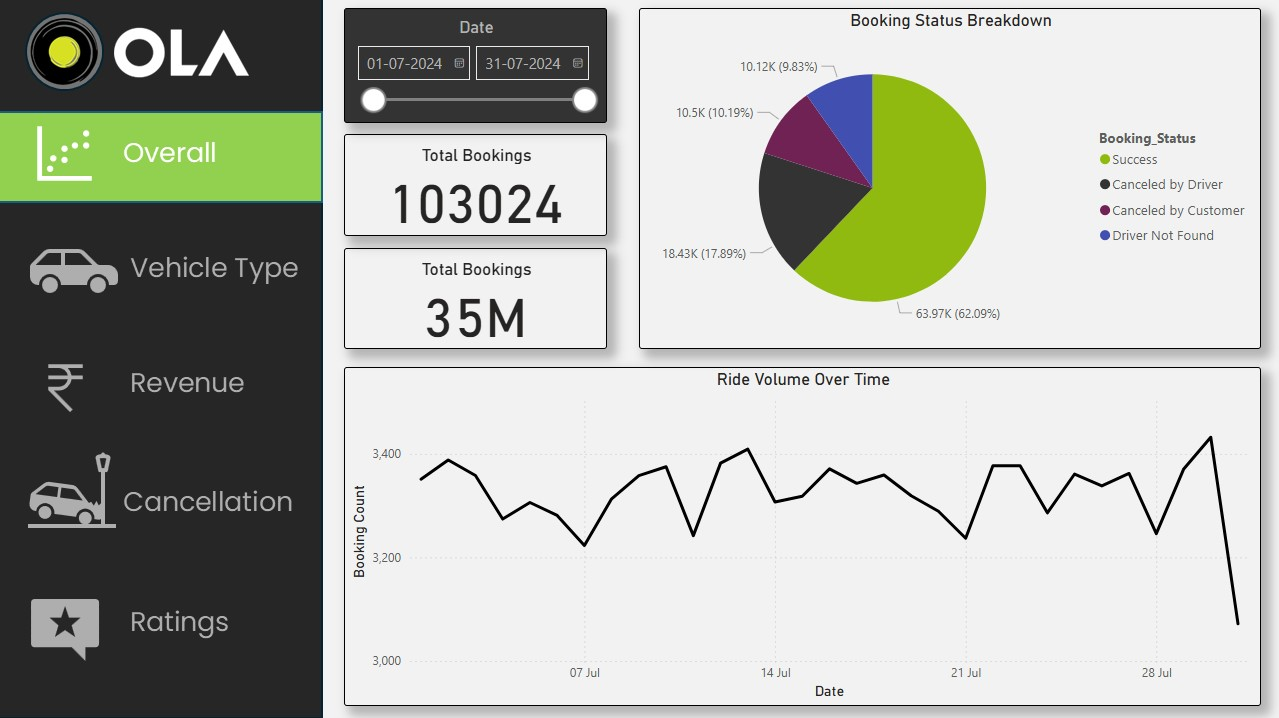

The page's visual inventory and layout, read from the dashboard file:
{"tool":"powerbi","page":{"name":"Overall","canvas":[1280,720],"ordinal":0},"visuals":[{"type":"actionButton","box":[0,225.7,324,89.6],"z":0},{"type":"actionButton","box":[0,342.4,324,89.6],"z":1000},{"type":"actionButton","box":[0,451.3,324,89.6],"z":2000},{"type":"actionButton","box":[0,580.4,324,89.6],"z":3000},{"type":"lineChart","title":"Ride Volume Over Time","fields":{"Y":["CountNonNull(July.Booking_ID)"],"Category":["July.Date"]},"box":[345,367,917,339],"z":4000},{"type":"pieChart","title":"Booking Status Breakdown","fields":{"Category":["July.Booking_Status"],"Y":["CountNonNull(July.Booking_Status)"]},"box":[640,8,622,341],"z":5000},{"type":"slicer","title":"Date","fields":{"Values":["July.Date"]},"box":[345,8,263,115],"z":6000},{"type":"card","title":"Total Bookings","fields":{"Values":["CountNonNull(July.Booking_ID)"]},"box":[345,134,263,102],"z":7000},{"type":"card","title":"Total Bookings","fields":{"Values":["Sum(July.Booking_Value)"]},"box":[345,248,263,101],"z":8000}]}

Visuals, with their boxes in screenshot pixels (x1, y1, x2, y2), scaled from the page's 1280x720 canvas onto the 1279x718 screenshot:
actionButton: <region>0, 225, 324, 314</region>
actionButton: <region>0, 341, 324, 431</region>
actionButton: <region>0, 450, 324, 539</region>
actionButton: <region>0, 579, 324, 668</region>
"Ride Volume Over Time" lineChart: <region>345, 366, 1261, 704</region>
"Booking Status Breakdown" pieChart: <region>640, 8, 1261, 348</region>
"Date" slicer: <region>345, 8, 608, 123</region>
"Total Bookings" card: <region>345, 134, 608, 235</region>
"Total Bookings" card: <region>345, 247, 608, 348</region>
